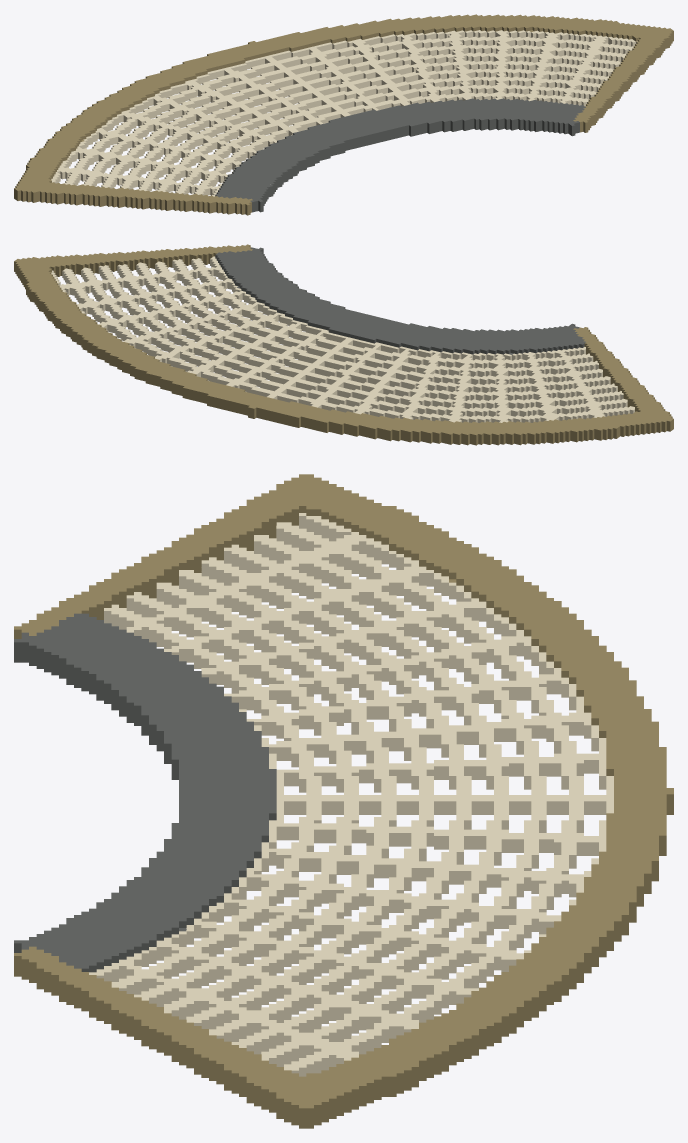
The model's file is mesh_nape_protector.glb.
3 renders of one model, top to bottom at view 1: azimuth 30°, elevation 25°; view 2: azimuth 150°, elevation 25°; view 3: azimuth 270°, elevation 25°, orthographic. The views are drawn at different scales.
Parts seen in each view (by area): view 1: mesh_nape_protector:compound; view 2: mesh_nape_protector:compound; view 3: mesh_nape_protector:compound.
Part boxes in pixels (x1,y1,x2,y2): mesh_nape_protector:compound: (14, 14, 673, 215); mesh_nape_protector:compound: (14, 244, 673, 445); mesh_nape_protector:compound: (14, 474, 673, 1128).
Size of the model in its own units: 0.4 by 0.006 by 0.176.
